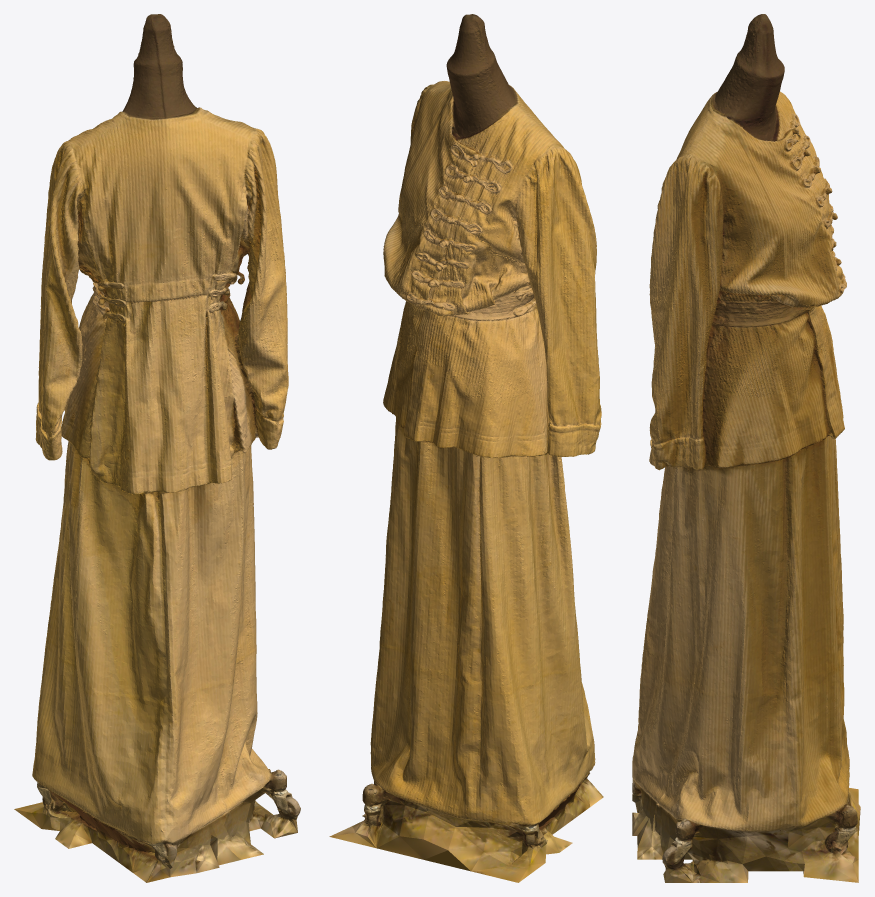
File: ens-2023-14-detail.glb
3 views of the same model, side by side, from view 1: azimuth 30°, elevation 25°; view 2: azimuth 150°, elevation 25°; view 3: azimuth 270°, elevation 25° (orthographic).
Parts seen in each view (by area): view 1: ENS.2023; view 2: ENS.2023; view 3: ENS.2023.
Boxes of the visible parts, x1,y1,x2,y2 form: ENS.2023: (14, 14, 300, 882); ENS.2023: (329, 14, 603, 882); ENS.2023: (632, 14, 860, 882).
Bounding box in the file's own units: 8.15 × 28.86 × 7.28.
Materials: 1 (1 with a texture image).
